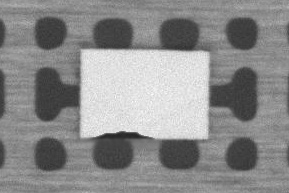DIE_BROKEN: (90, 129, 155, 140)
